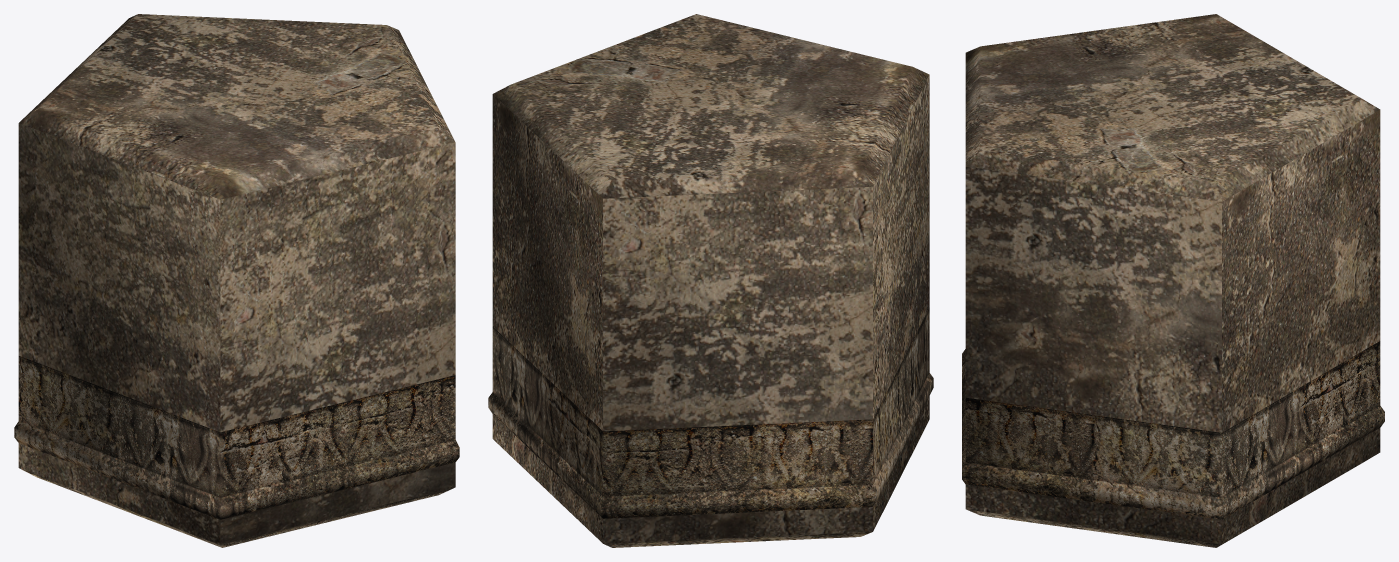
The model's file is materials_5_pedestal_7.fbx.
The picture shows the model from 3 angles, left to right: view 1: azimuth 30°, elevation 25°; view 2: azimuth 150°, elevation 25°; view 3: azimuth 270°, elevation 25°; orthographic projection.
Parts seen in each view (by area): view 1: materials_5_pedestal_7; view 2: materials_5_pedestal_7; view 3: materials_5_pedestal_7.
Boxes of the visible parts, x1,y1,x2,y2 form: materials_5_pedestal_7: [14, 14, 459, 547]; materials_5_pedestal_7: [488, 14, 933, 547]; materials_5_pedestal_7: [962, 14, 1384, 547].
Size of the model in its own units: 54.51 by 49.29 by 51.84.
